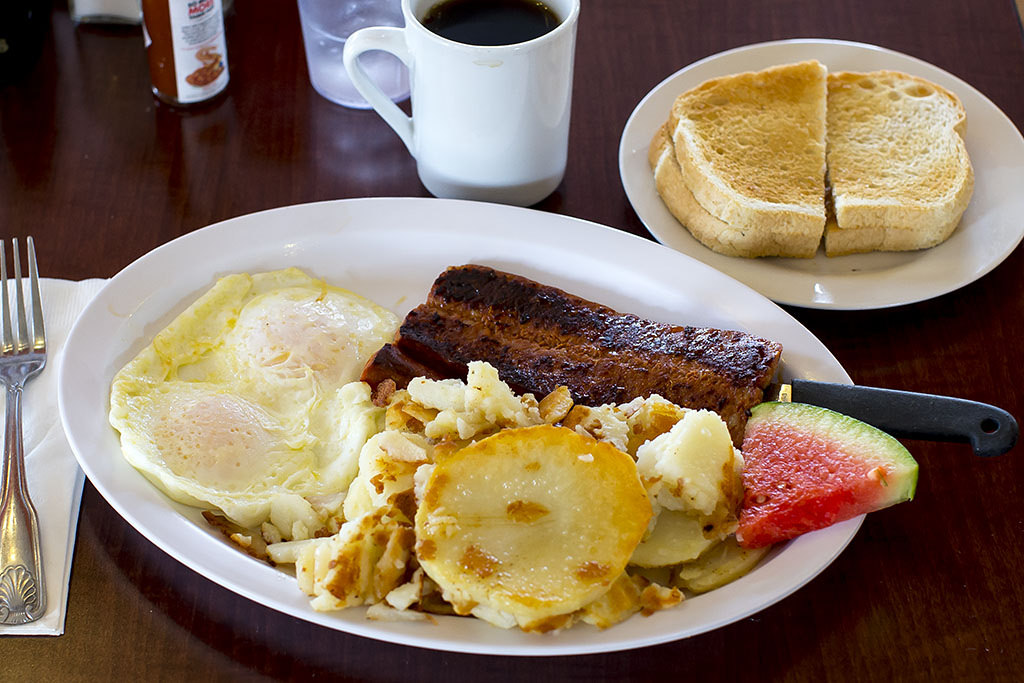fried egg: (126, 276, 391, 524)
slice of bread: (665, 65, 828, 236), (639, 118, 818, 265), (819, 68, 977, 225)
